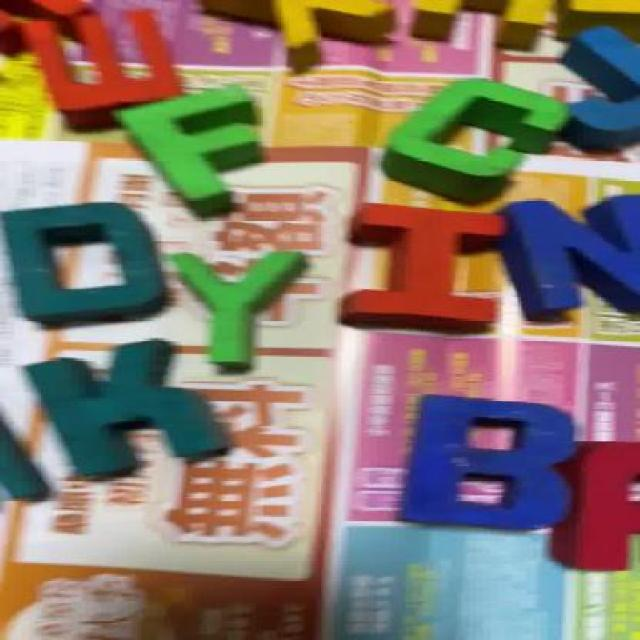B: (397, 394, 572, 540)
C: (388, 77, 562, 191)
D: (6, 202, 169, 326)
F: (135, 88, 268, 214)
I: (341, 202, 513, 342)
K: (22, 341, 232, 477)
N: (495, 192, 639, 328)
W: (19, 13, 186, 116)
Y: (168, 250, 304, 372)
